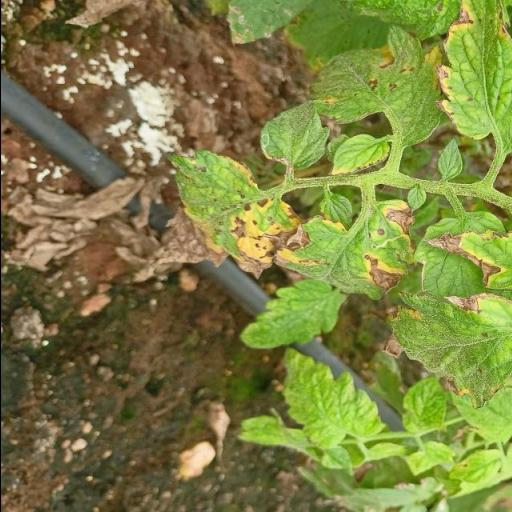disease_tomato: (148, 147, 303, 280), (310, 19, 442, 151), (274, 196, 422, 301), (431, 0, 512, 152), (326, 133, 390, 178)
